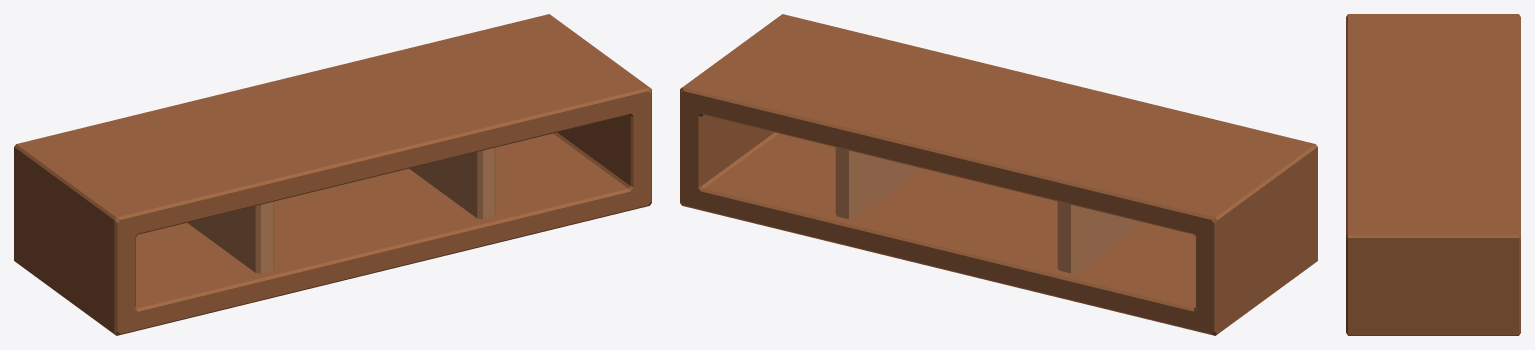
File: Table D.glb
The picture shows the model from 3 angles, left to right: view 1: azimuth 30°, elevation 25°; view 2: azimuth 150°, elevation 25°; view 3: azimuth 270°, elevation 25°; orthographic projection. The views are drawn at different scales.
Visible parts, largest first — view 1: Table D; view 2: Table D; view 3: Table D.
Boxes of the visible parts, bbox=[...] form: Table D: bbox=[14, 14, 651, 335]; Table D: bbox=[680, 14, 1317, 335]; Table D: bbox=[1346, 14, 1520, 335].
Size of the model in its own units: 2.56 by 0.538 by 0.8464.
